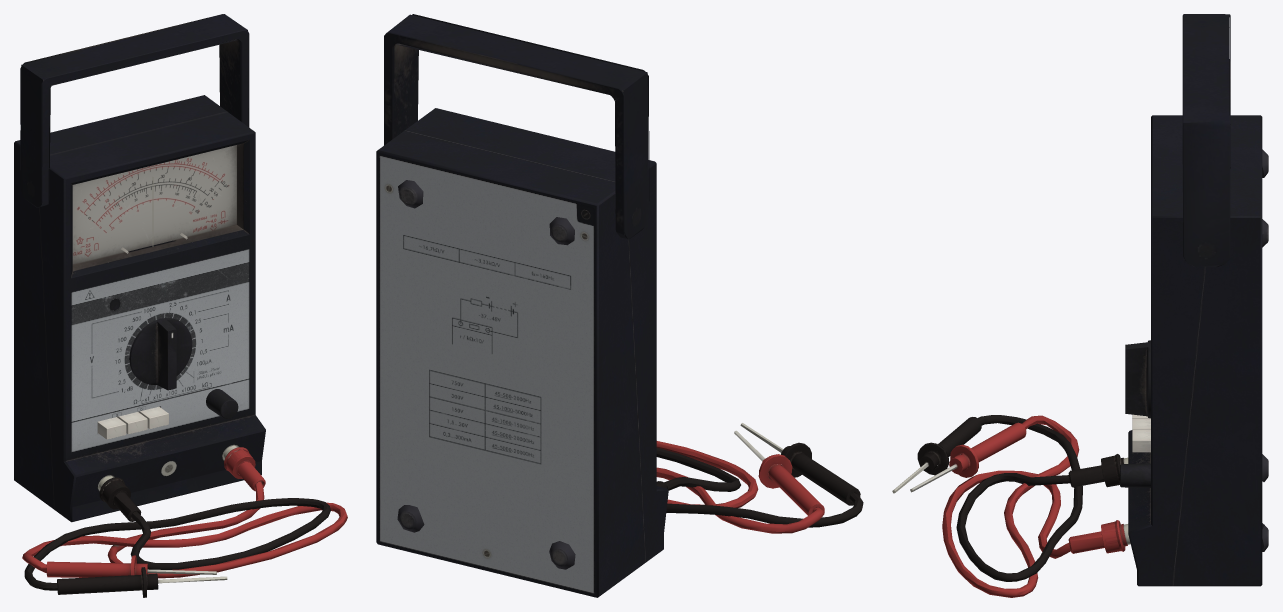
File: retro_multimeter.glb
3 renders of one model, left to right at view 1: azimuth 30°, elevation 25°; view 2: azimuth 150°, elevation 25°; view 3: azimuth 270°, elevation 25°, orthographic. The views are drawn at different scales.
Parts seen in each view (by area): view 1: retro_multimeter_LOD0, retro_multimeter_cables_LOD0, retro_multimeter_handle_LOD0, retro_multimeter_dial_LOD0, retro_multimeter_buttons_LOD0, retro_multimeter_knob_LOD0; view 2: retro_multimeter_LOD0, retro_multimeter_handle_LOD0, retro_multimeter_cables_LOD0; view 3: retro_multimeter_LOD0, retro_multimeter_cables_LOD0, retro_multimeter_handle_LOD0, retro_multimeter_dial_LOD0, retro_multimeter_knob_LOD0, retro_multimeter_buttons_LOD0.
Boxes of the visible parts, x1,y1,x2,y2 form: retro_multimeter_LOD0: (14, 95, 265, 522); retro_multimeter_cables_LOD0: (22, 445, 347, 597); retro_multimeter_handle_LOD0: (20, 14, 249, 207); retro_multimeter_dial_LOD0: (129, 318, 192, 390); retro_multimeter_buttons_LOD0: (97, 406, 168, 439); retro_multimeter_knob_LOD0: (206, 389, 238, 418); retro_multimeter_LOD0: (376, 108, 668, 597); retro_multimeter_handle_LOD0: (384, 14, 649, 239); retro_multimeter_cables_LOD0: (656, 423, 863, 533); retro_multimeter_LOD0: (1128, 115, 1268, 586); retro_multimeter_cables_LOD0: (892, 415, 1130, 597); retro_multimeter_handle_LOD0: (1182, 14, 1230, 266); retro_multimeter_dial_LOD0: (1125, 340, 1150, 418); retro_multimeter_knob_LOD0: (1120, 463, 1150, 487); retro_multimeter_buttons_LOD0: (1132, 414, 1150, 452).
Size of the model in its own units: 0.2159 by 0.2788 by 0.2027.
2 materials, 2 textured.
